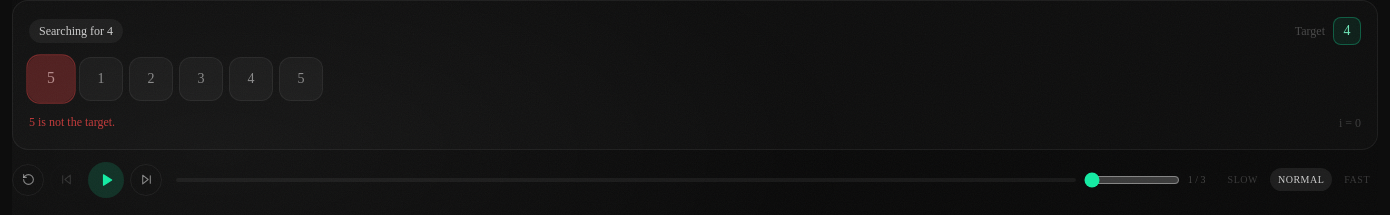
Test: AnimationScriptRenderer › reaches the match narration on the last step
Click the button named "Next step": click(146, 180) [130,164,162,196]
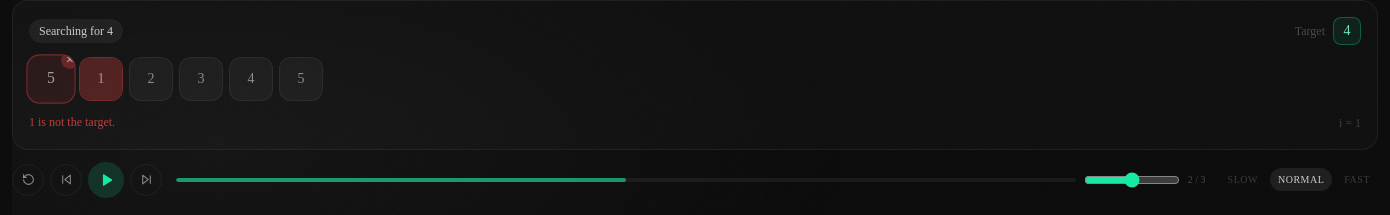
Click the button named "Next step": click(146, 180) [130,164,162,196]
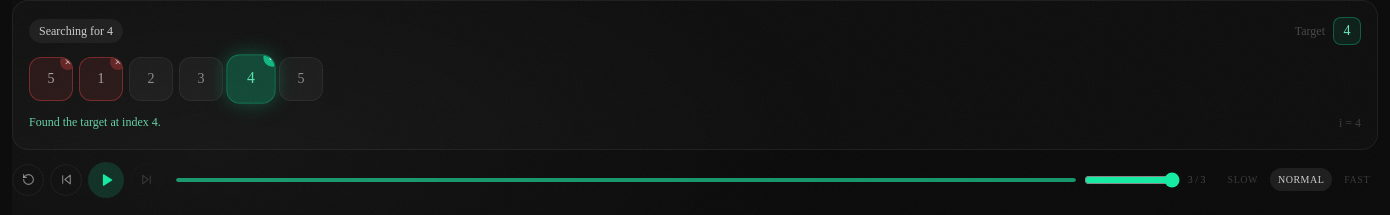
Result: the text "Found the target at index 4." is shown at [29,115,161,129]
